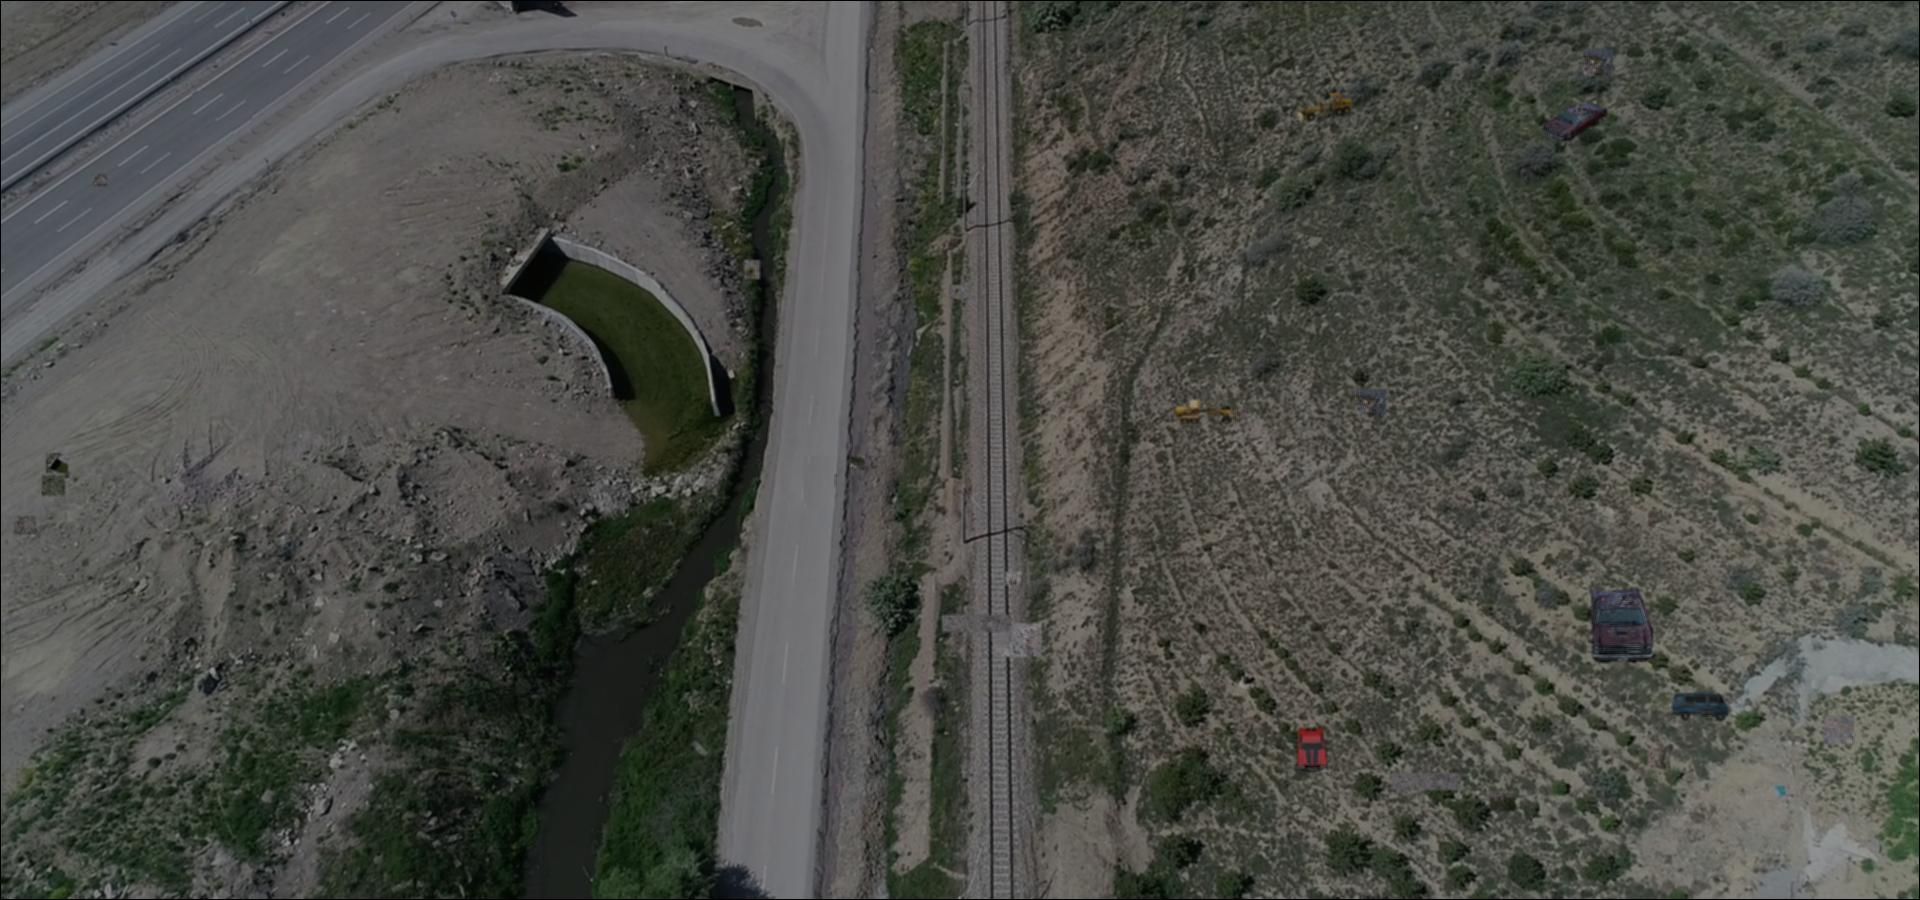arac: (1584, 587, 1656, 665), (1542, 100, 1607, 142), (1296, 92, 1356, 122), (1173, 399, 1239, 426), (1671, 692, 1729, 722), (1294, 726, 1330, 774)
